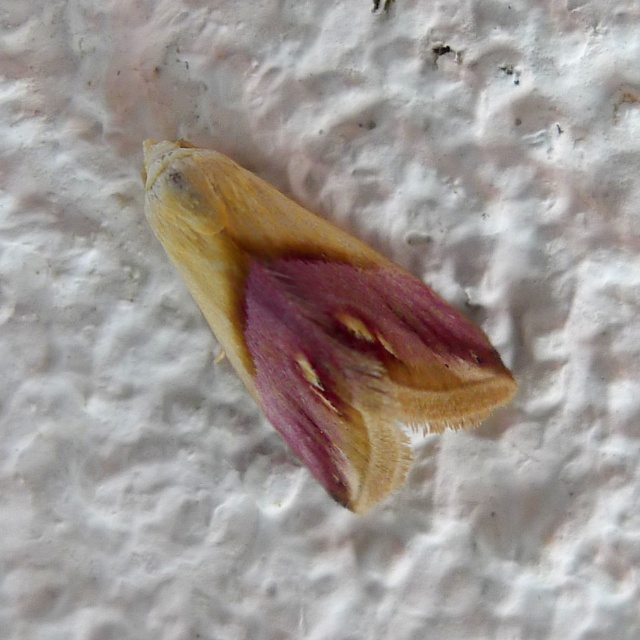Moths and butterflies: (141, 135, 521, 518)
